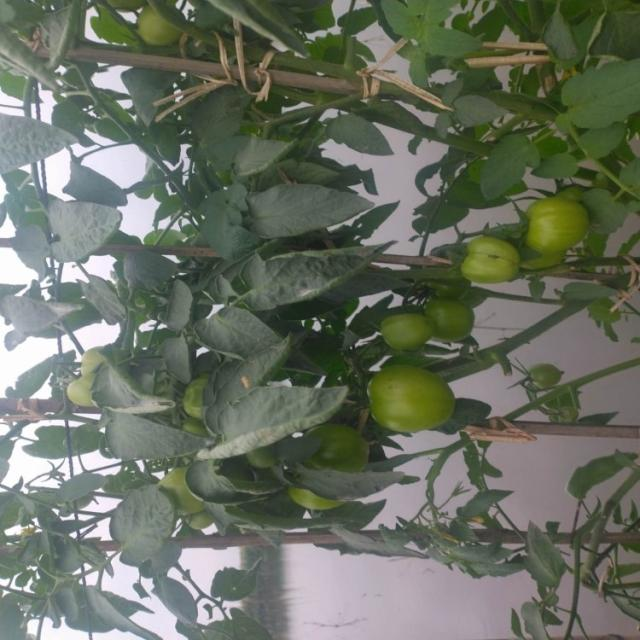tomato: (367, 355, 461, 451), (418, 285, 486, 360), (520, 196, 592, 259), (453, 234, 523, 294), (320, 420, 377, 478), (52, 353, 110, 408), (122, 2, 181, 51), (370, 314, 437, 357), (179, 371, 216, 427), (165, 464, 197, 513)
